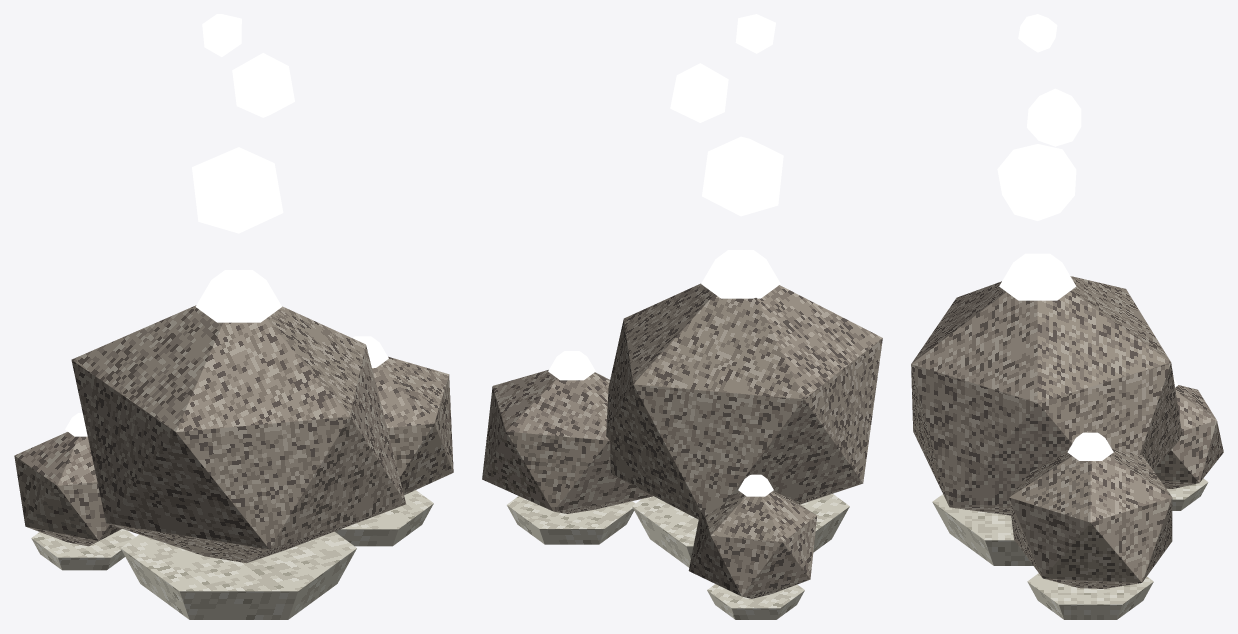
File: smolderpuff.glb
3 renders of one model, left to right at view 1: azimuth 30°, elevation 25°; view 2: azimuth 150°, elevation 25°; view 3: azimuth 270°, elevation 25°, orthographic. The views are drawn at different scales.
Visible parts, largest first — view 1: Body.004; view 2: Body.004; view 3: Body.004.
Part boxes in pixels (bbox=[...]): Body.004: bbox=[14, 14, 453, 619]; Body.004: bbox=[482, 14, 882, 619]; Body.004: bbox=[911, 14, 1223, 619].
Size of the model in its own units: 0.2251 by 0.3212 by 0.1778.
3 materials, 2 textured.
